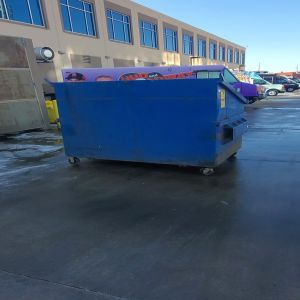Dumpster: (51, 81, 248, 180)
